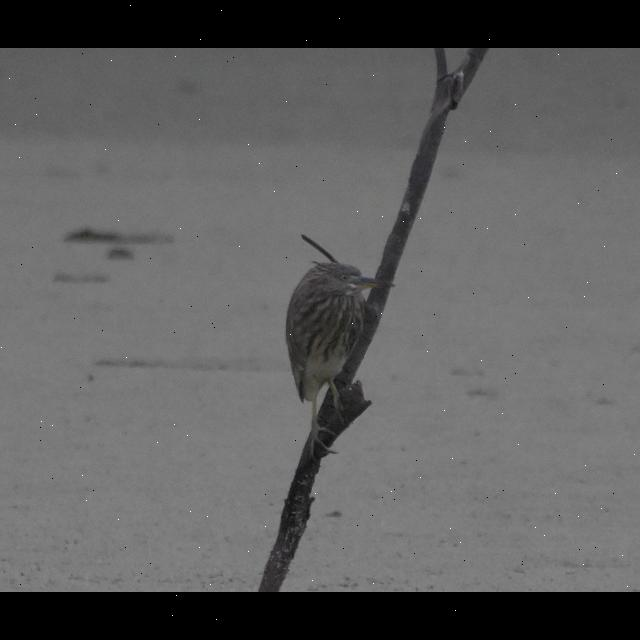heron: (270, 255, 400, 460)
